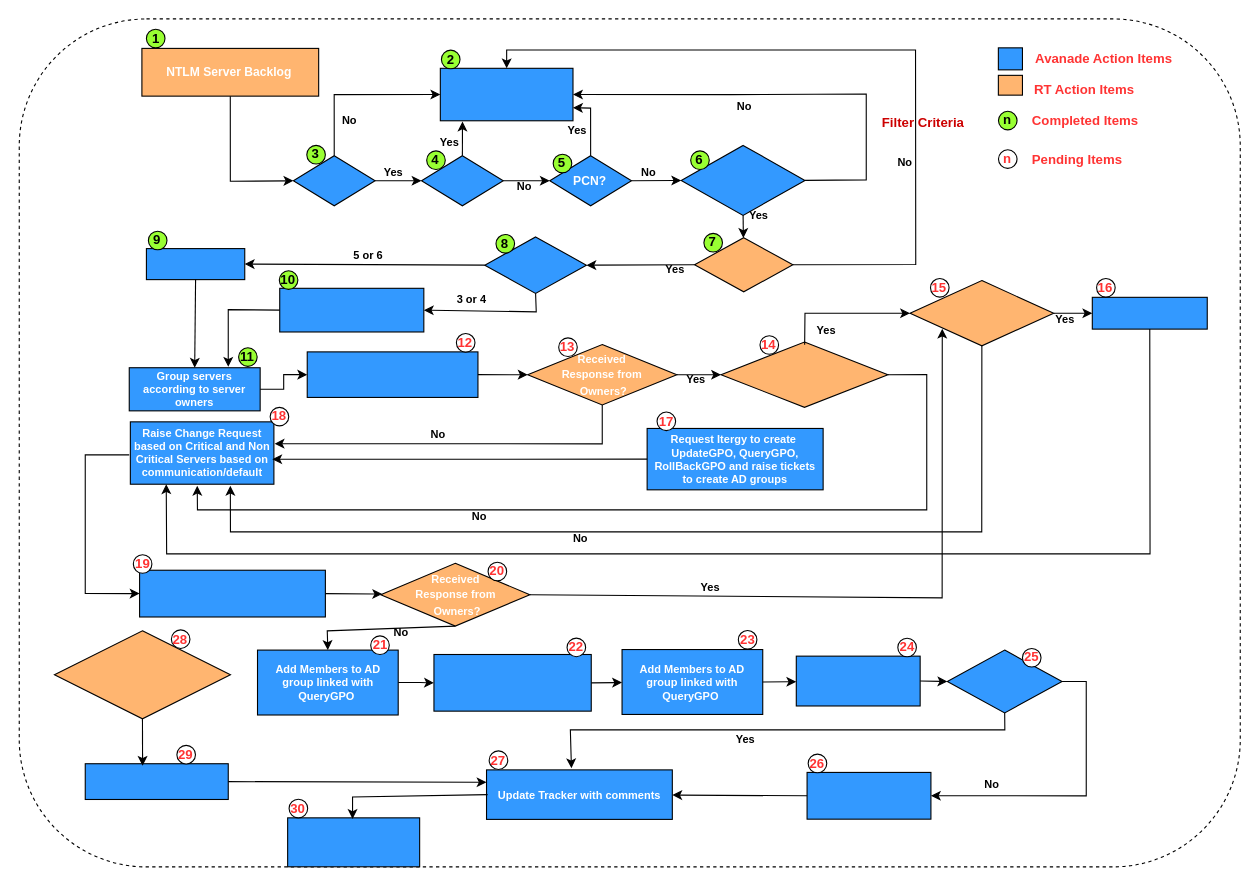
This 1260x887 diagram has some shape labels left out. Here are the shapes that lost their labels. From the top down, the box of each, then its label:
(439, 67, 573, 121): NTLM Enterprise Backlog
(292, 155, 375, 206): APAC?
(420, 155, 503, 206): PROD?
(680, 144, 805, 215): Criticality 3 or 4 or 5 or 6 ?
(145, 248, 245, 280): Non Critical - Pilot List
(484, 236, 586, 293): Criticality?
(693, 237, 793, 292): Approved by RT?
(279, 287, 424, 332): Critical - Pilot List
(909, 280, 1054, 346): Action needed?
(1091, 296, 1207, 329): Implement Action
(306, 351, 478, 397): Send email communication along with questionnaire to sever owners and app owners
(720, 341, 888, 407): Workshop/Discussions Required?
(138, 569, 325, 617): Send Notification to Stakeholders about the deployment plan
(53, 630, 230, 719): App/Server Impacted, received notification from Owners?
(433, 653, 591, 711): Add Members to AD group linked to "Enforce NTLMv2"
(795, 655, 920, 706): Check LMCompatibility and Result set of Policy from fileshare
(946, 649, 1062, 713): Validate remediation Fix?
(84, 763, 228, 799): Rollback
(806, 771, 931, 819): Mark Exception and plan future reboot for servers
(287, 817, 420, 867): Notify Stakeholders
